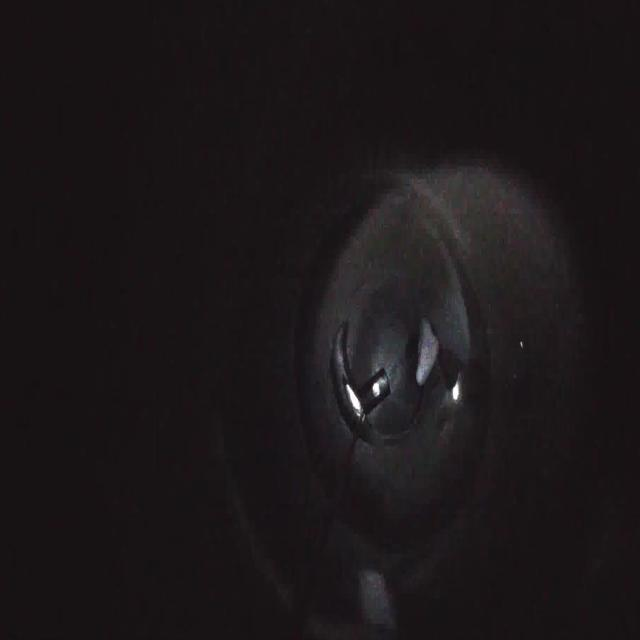impurity: (412, 314, 442, 388)
